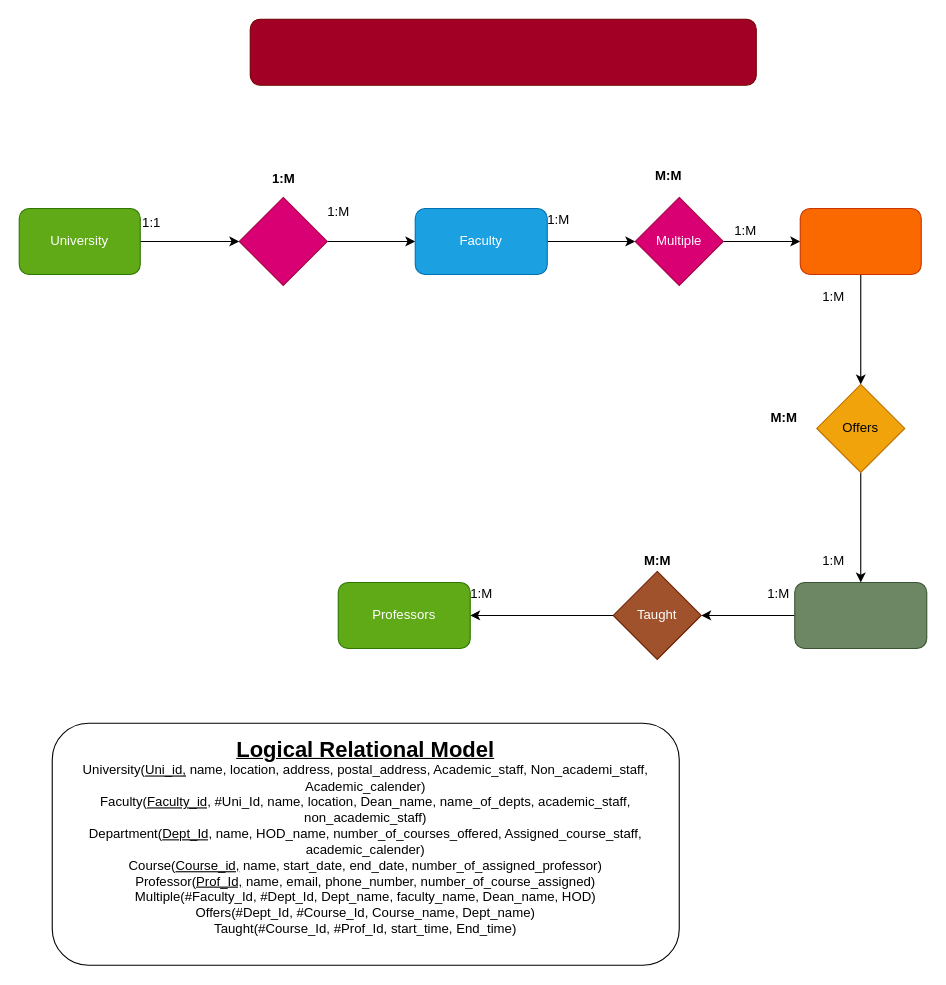
This 946x985 diagram has some shape labels left out. Each missing label, with the centre of its shape:
Courses: the point at 860,614
Department: the point at 860,240
Has: the point at 282,240
University Relational Model: the point at 502,51
